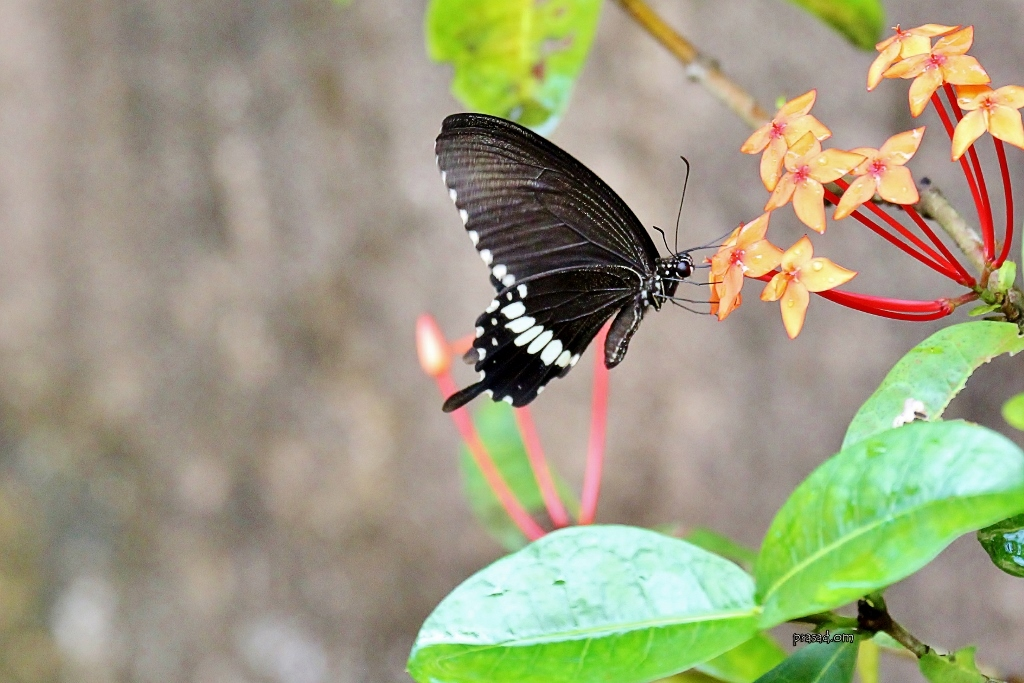Butterfly: (420, 111, 722, 410)
